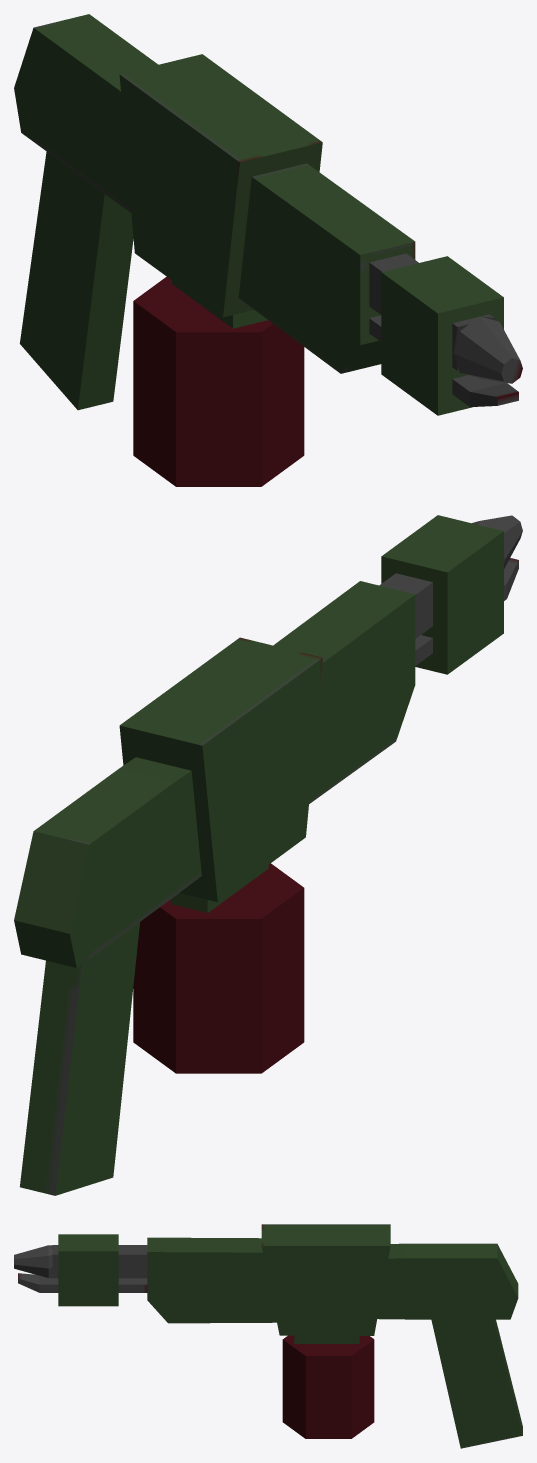
Rendered from flamethrower.glb.
3 renders of one model, top to bottom at view 1: azimuth 30°, elevation 25°; view 2: azimuth 150°, elevation 25°; view 3: azimuth 270°, elevation 25°, orthographic. The views are drawn at different scales.
Parts seen in each view (by area): view 1: Cube.001; view 2: Cube.001; view 3: Cube.001.
Boxes of the visible parts, box(x1,y1,x2,y2) form: Cube.001: box(14, 14, 522, 486); Cube.001: box(14, 515, 522, 1195); Cube.001: box(14, 1224, 522, 1448).
Bounding box in the file's own units: 0.2089 × 0.6072 × 1.34.
Materials: 1 (1 with a texture image).
